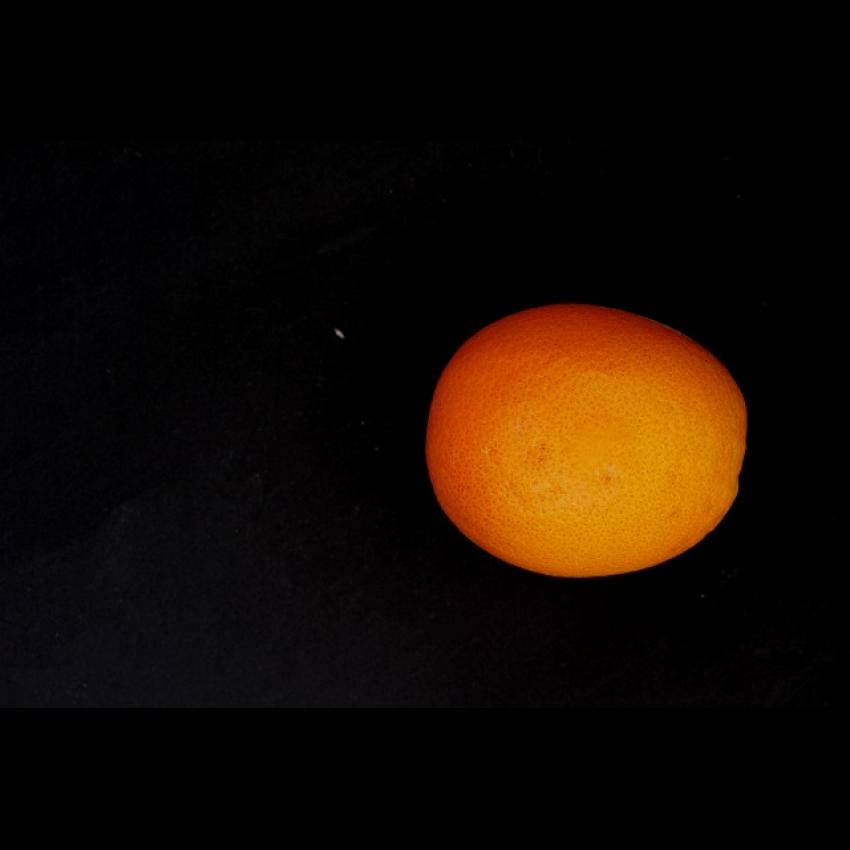Mal estado: (410, 292, 776, 587)
